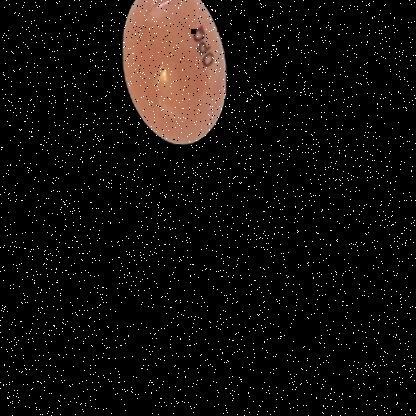opiqutan: (88, 0, 278, 200)
